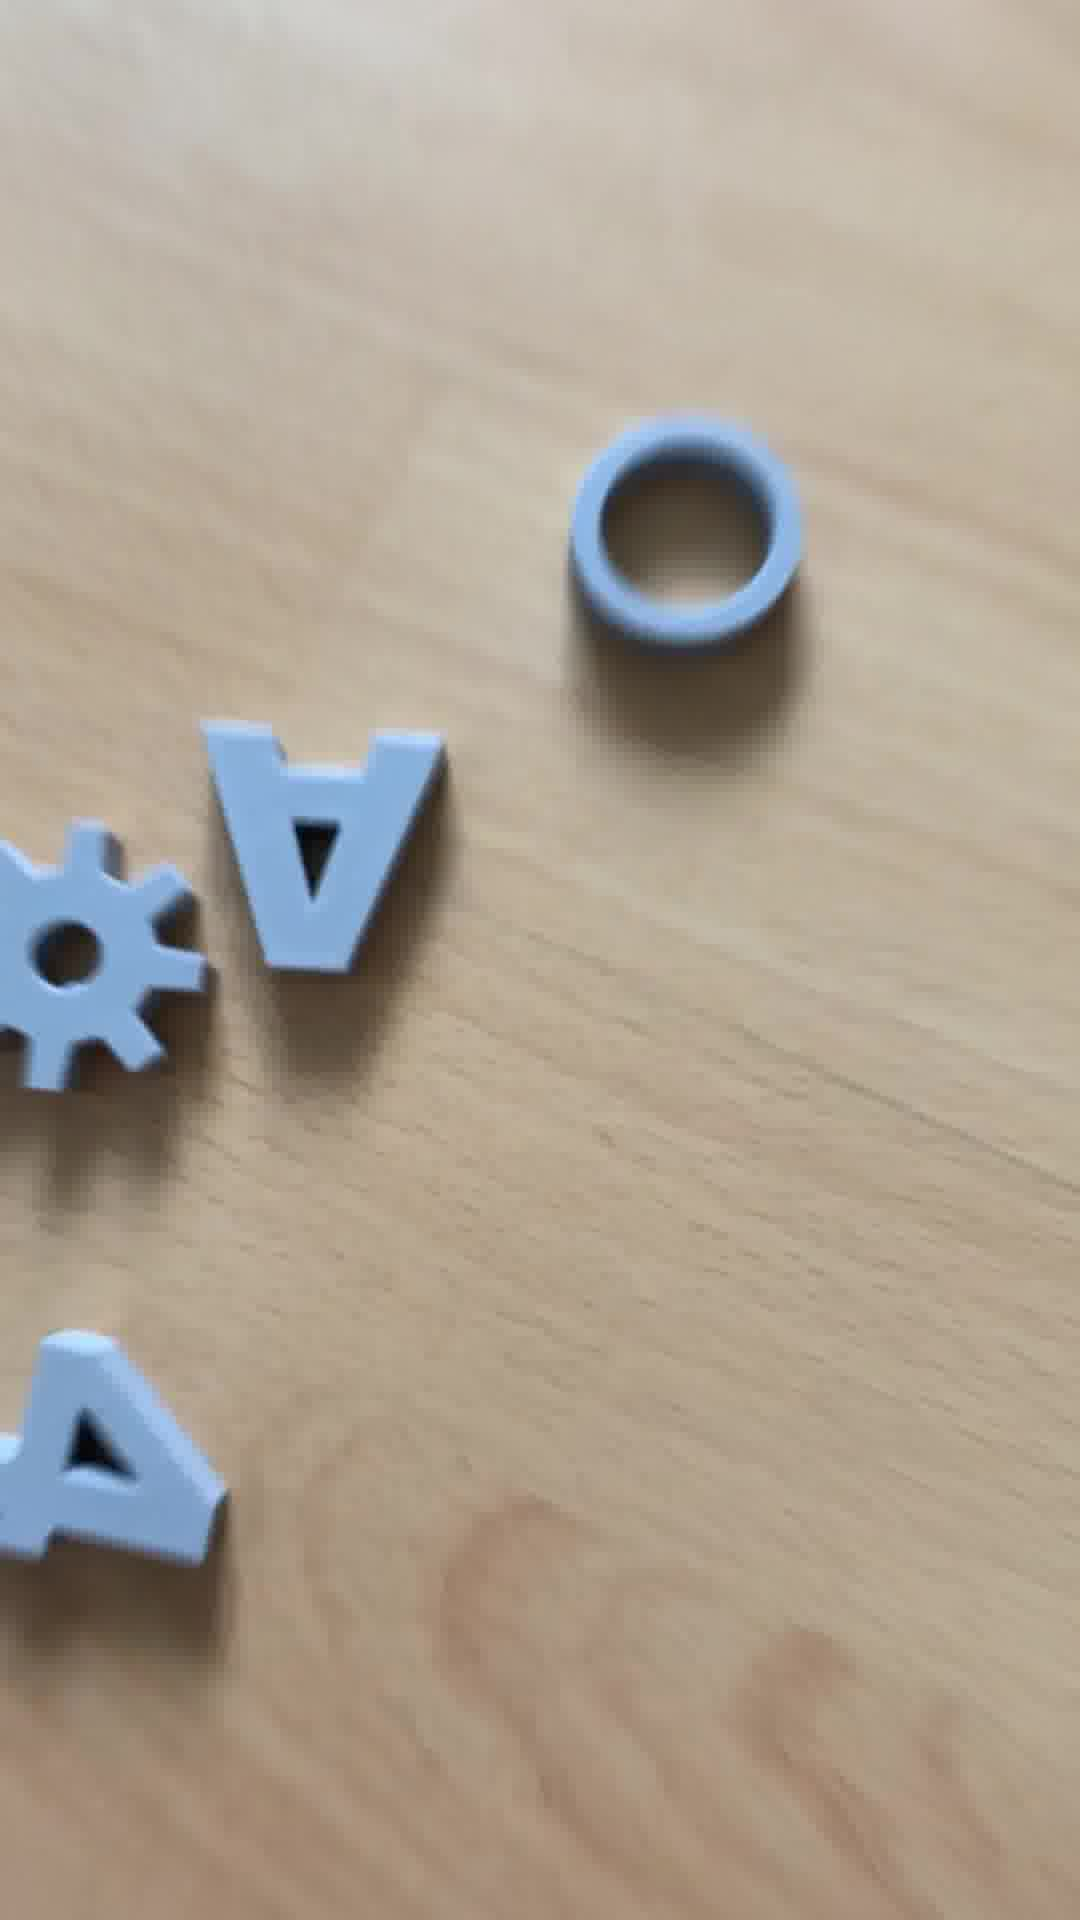Gray A-letter: (162, 705, 464, 997)
Gray four: (1, 1320, 255, 1577)
Gray gear: (1, 829, 223, 1102)
Gray ring: (564, 410, 823, 653)
